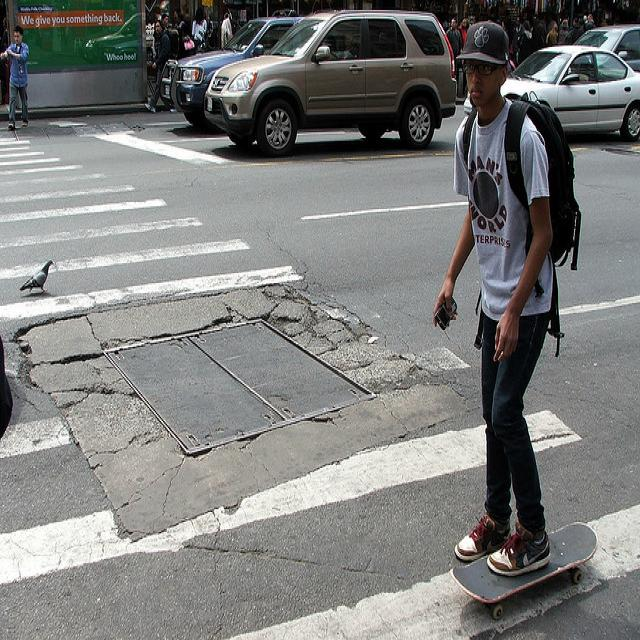Vehicle: (208, 11, 458, 156), (463, 45, 639, 139), (159, 18, 304, 126), (572, 24, 640, 72), (80, 13, 140, 64)
